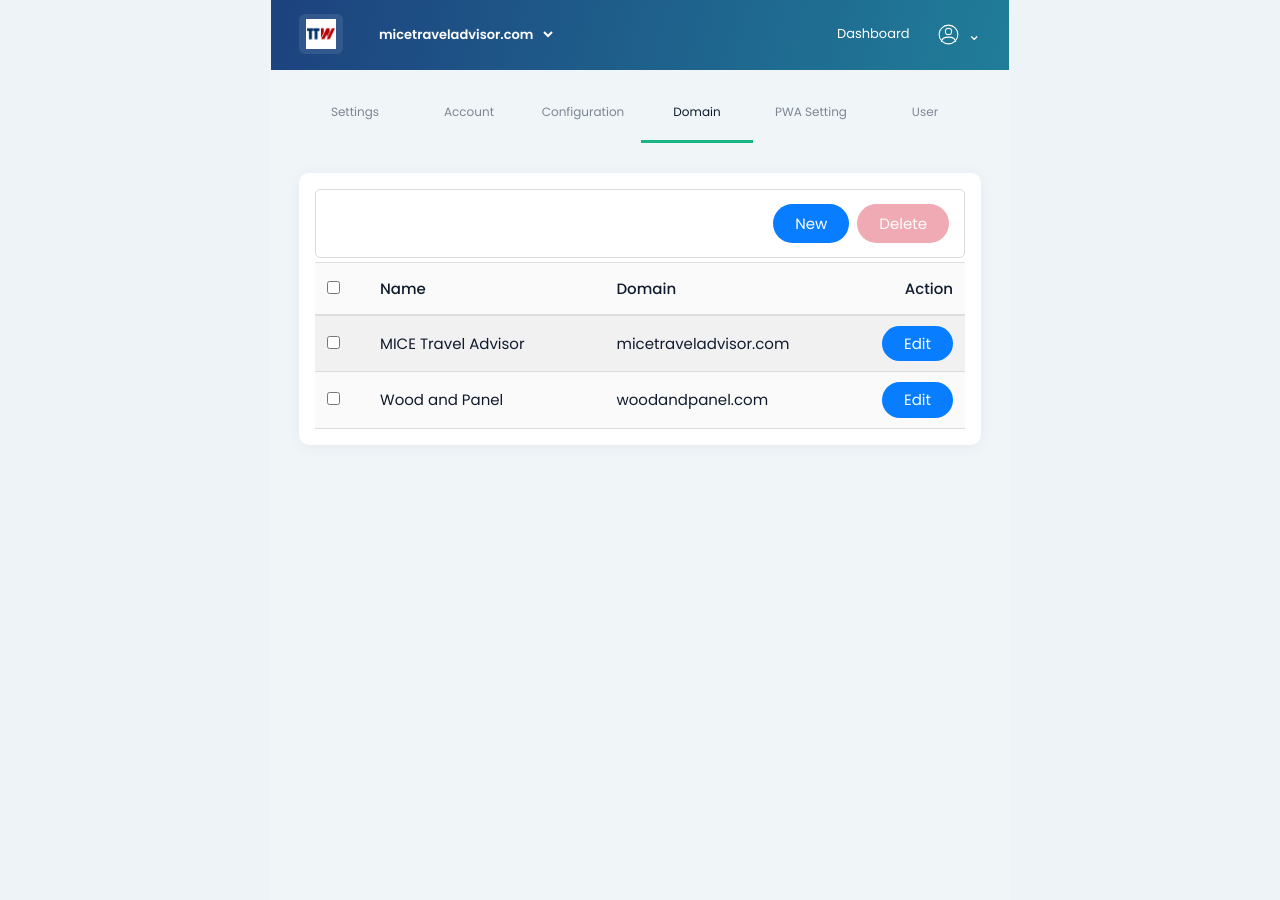
Test case: Edit saves a name through PATCH, keeps the hostname read-only, and restores focus
Click the button with aria-label "Edit MICE Travel Advisor".
click(918, 344)  # box [882,326,953,361]
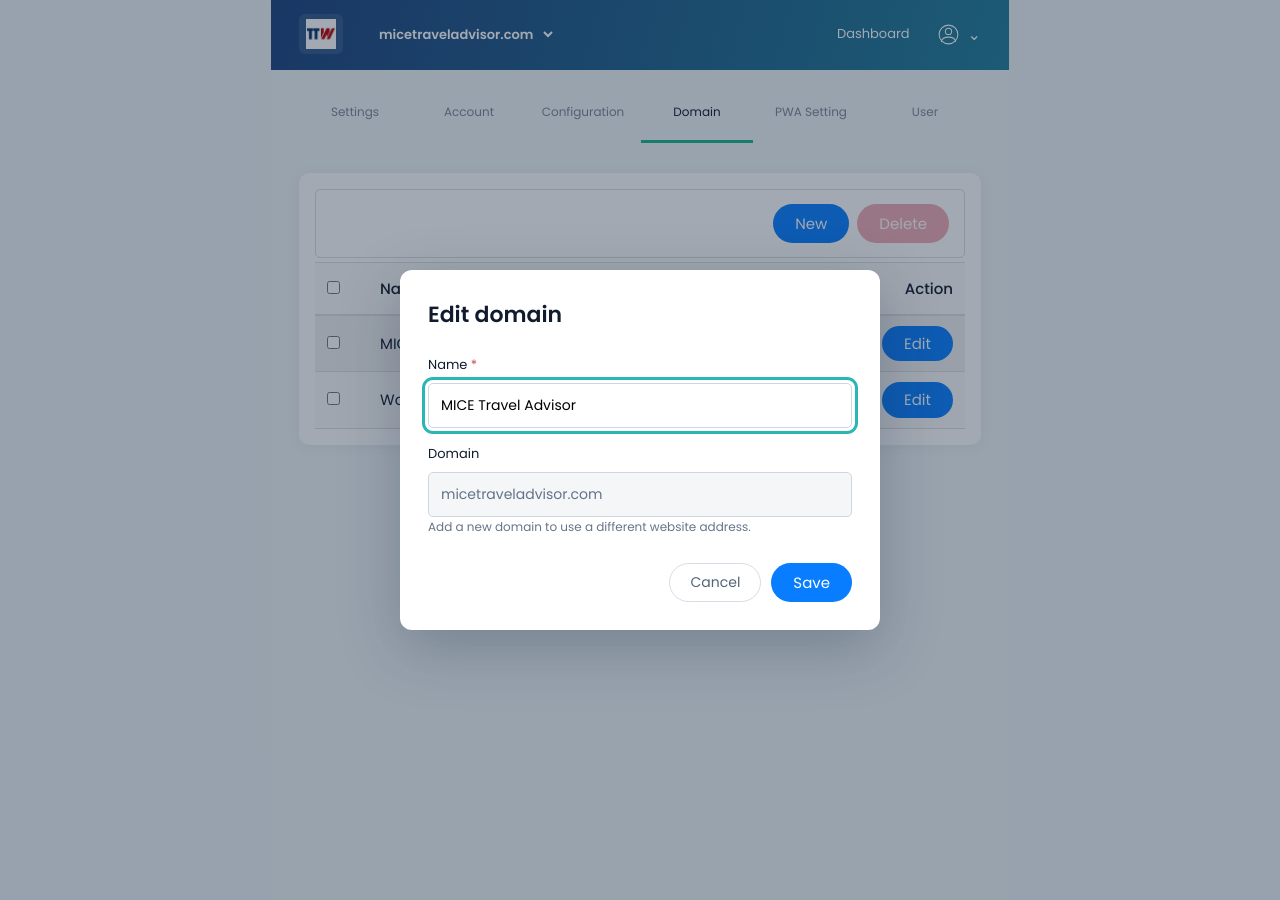
Replace the text in the field labelled "Name *" with "MICE News" at (640, 405), box [428,383,852,428]
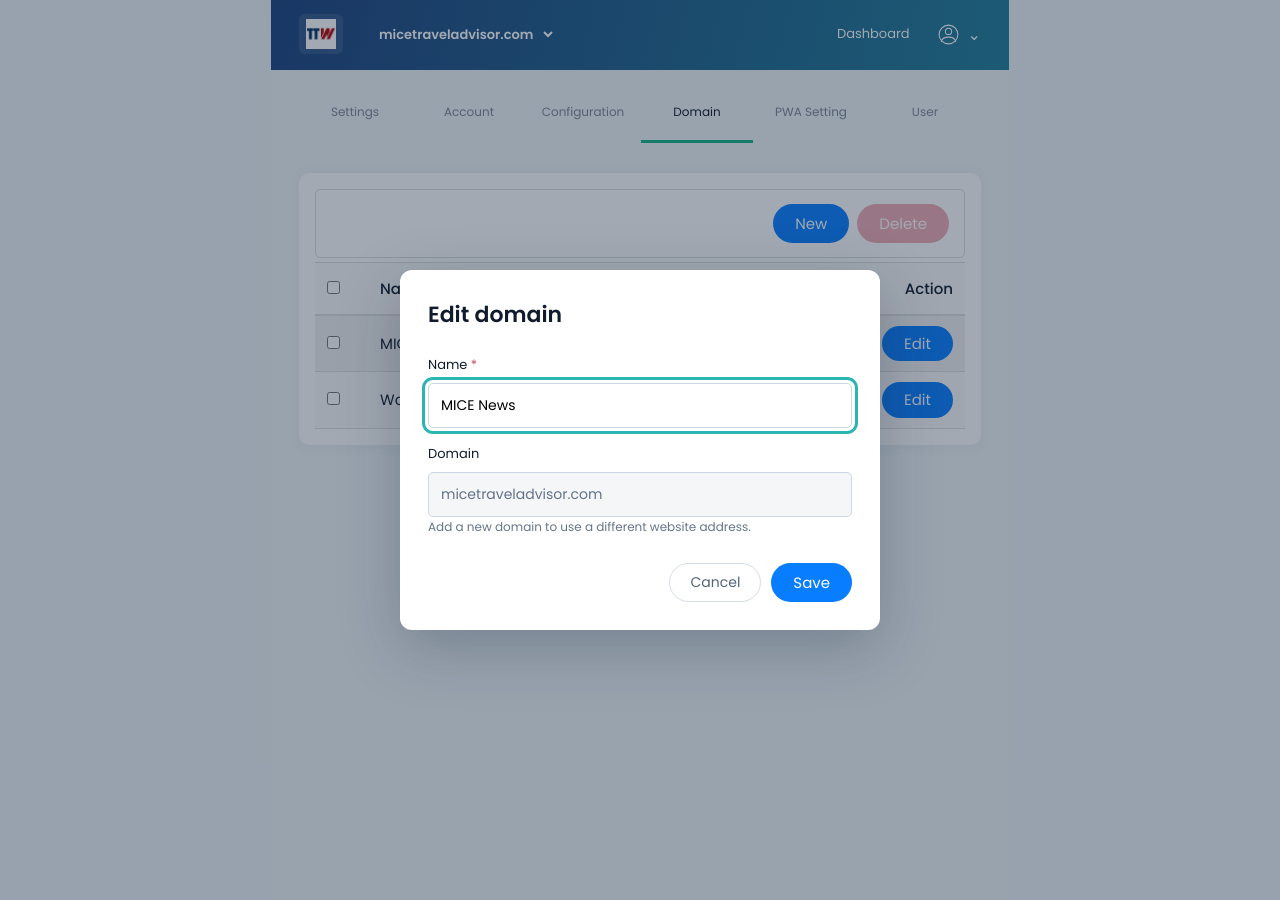
Click the button "Save".
click(812, 583)  # box [771,563,852,602]
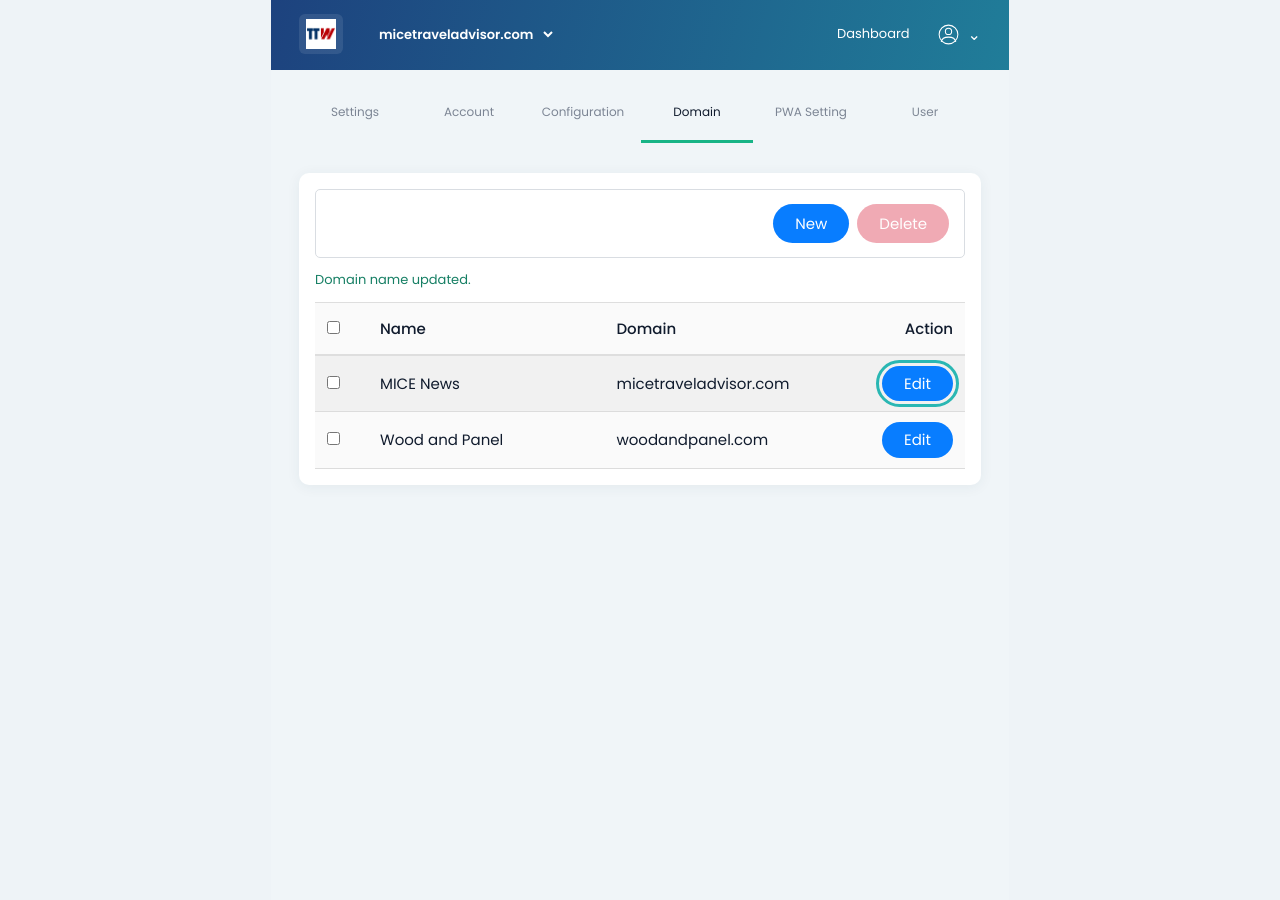
Now the button with aria-label "Edit MICE News" is shown, box [882,366,953,401]
Now the dialog is gone
